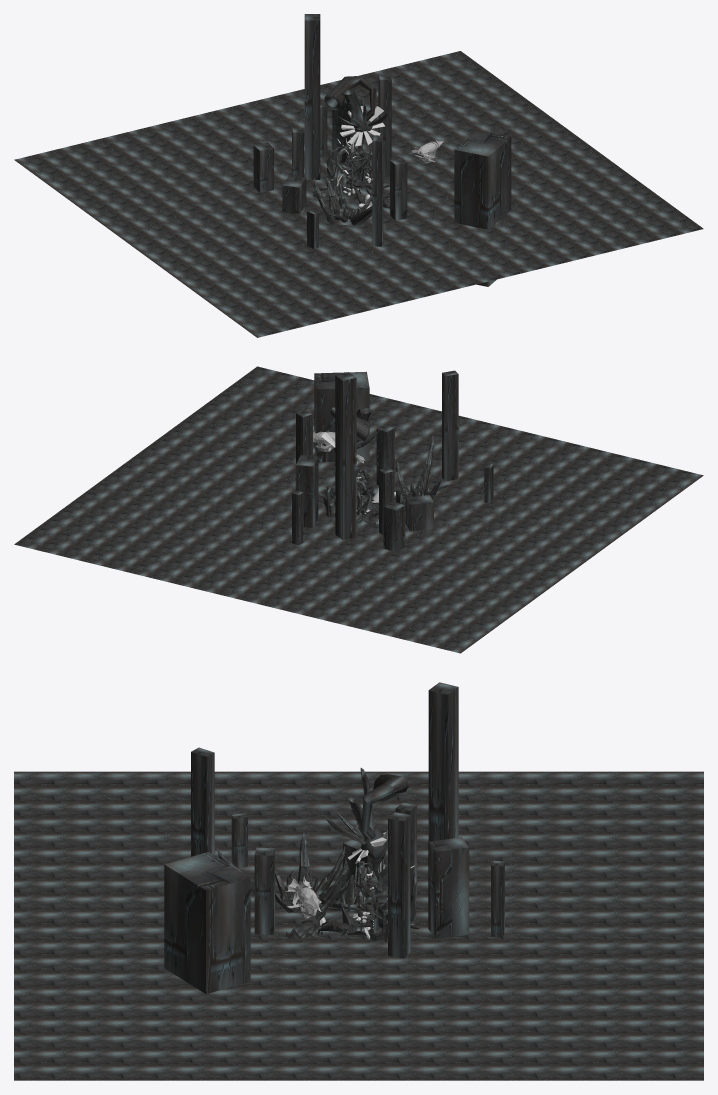
The model's file is LevelTest02.fbx.
3 renders of one model, top to bottom at view 1: azimuth 30°, elevation 25°; view 2: azimuth 150°, elevation 25°; view 3: azimuth 270°, elevation 25°, orthographic. The views are drawn at different scales.
Parts seen in each view (by area): view 1: Ground, Tower8, Tower10, Tower11, Tower2, Tower4, Tower9, Zepp:pCylinder93, Tower5, Tower7, Tower12; view 2: Ground, Tower10, Tower8, Tower11, Tower7, Tower9, Tower5, Tower4, Tower2, Tower12, Tower3; view 3: Ground, Tower8, Tower10, Tower7, Tower2, Tower11, Tower4, Zepp:pCylinder93, Tower3, Tower6, Tower12, Tower5.
Boxes of the visible parts, <box> form: Ground: <box>14,51,703,337</box>; Tower8: <box>454,130,511,286</box>; Tower10: <box>304,14,320,179</box>; Tower11: <box>372,135,383,246</box>; Tower2: <box>378,74,391,176</box>; Tower4: <box>390,158,407,220</box>; Tower9: <box>253,142,273,192</box>; Zepp:pCylinder93: <box>324,75,376,121</box>; Tower5: <box>282,175,306,214</box>; Tower7: <box>332,98,362,163</box>; Tower12: <box>292,128,303,177</box>; Ground: <box>14,366,703,653</box>; Tower10: <box>335,372,356,540</box>; Tower8: <box>314,371,369,462</box>; Tower11: <box>442,370,458,481</box>; Tower7: <box>295,455,318,527</box>; Tower9: <box>383,501,405,552</box>; Tower5: <box>405,495,433,531</box>; Tower4: <box>376,424,394,485</box>; Tower2: <box>296,410,312,463</box>; Tower12: <box>379,467,394,534</box>; Tower3: <box>292,490,303,545</box>; Ground: <box>14,771,703,1080</box>; Tower8: <box>164,852,250,994</box>; Tower10: <box>428,682,458,841</box>; Tower7: <box>428,837,469,938</box>; Tower2: <box>388,812,410,958</box>; Tower11: <box>191,747,214,856</box>; Tower4: <box>254,847,274,934</box>; Zepp:pCylinder93: <box>361,774,408,839</box>; Tower3: <box>491,860,504,937</box>; Tower6: <box>231,813,247,867</box>; Tower12: <box>395,802,416,897</box>; Tower5: <box>343,839,385,889</box>.
Bounding box in the file's own units: 92078 × 42661 × 86874.
